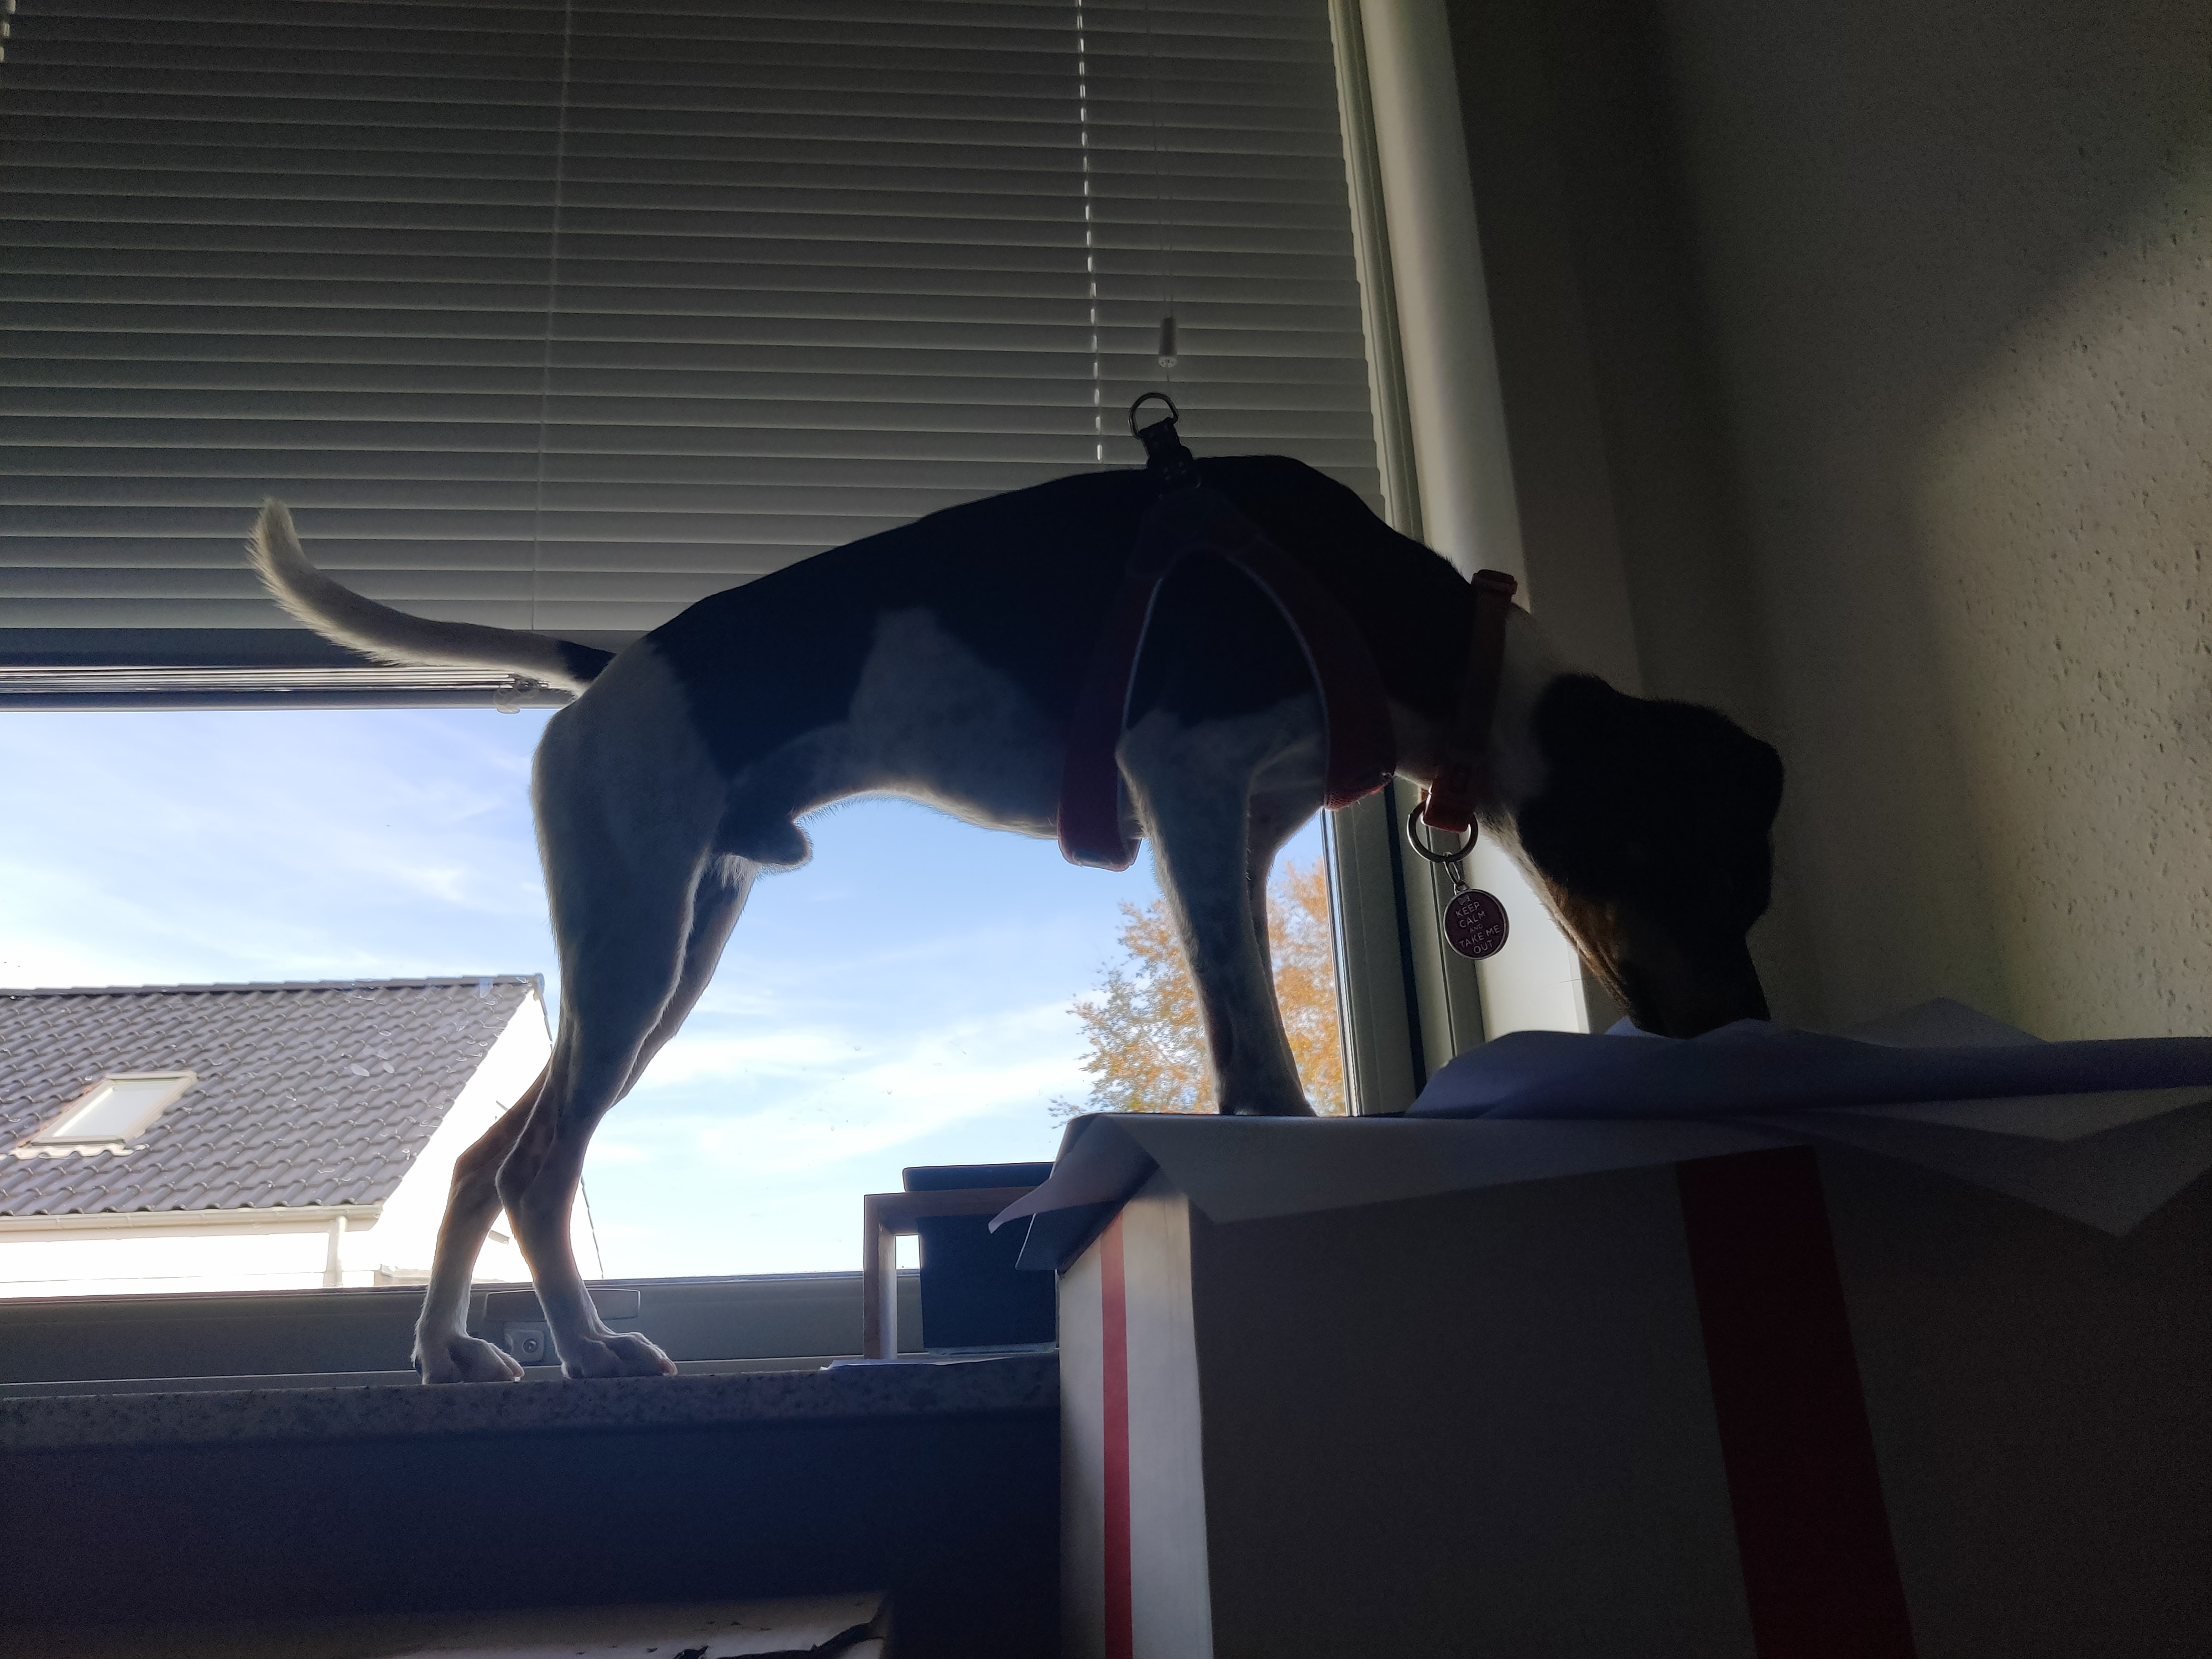Dog: (219, 429, 1797, 1399)
